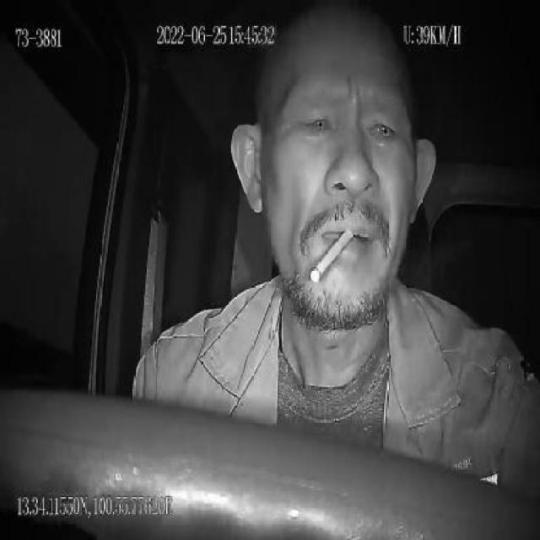smoking: (310, 230, 353, 283)
